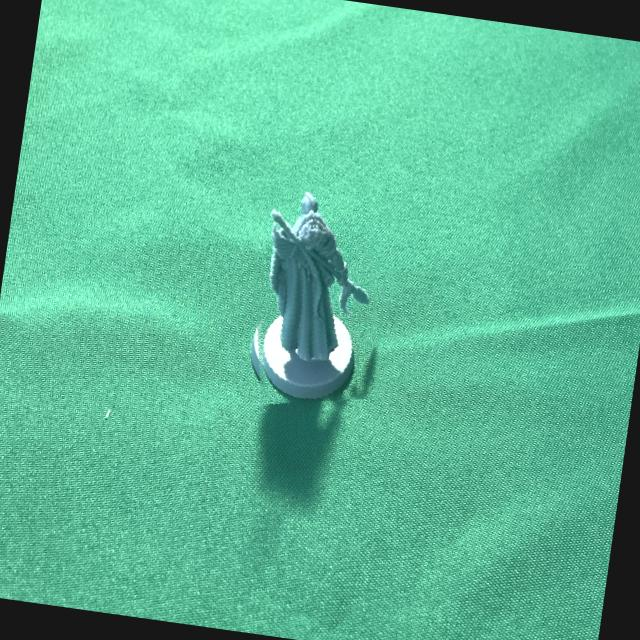isis_follower: (232, 173, 400, 414)
